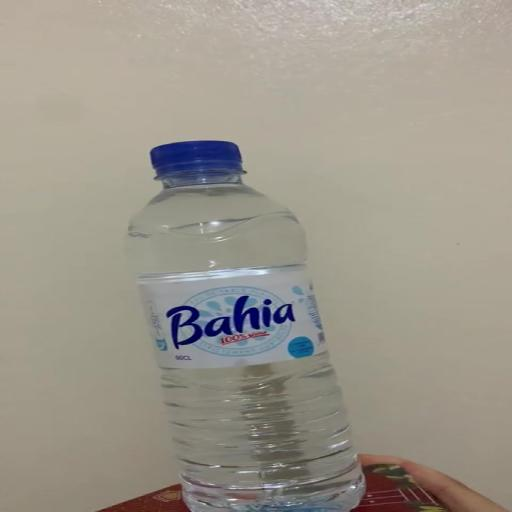bouteille conformite: (127, 141, 364, 511)
